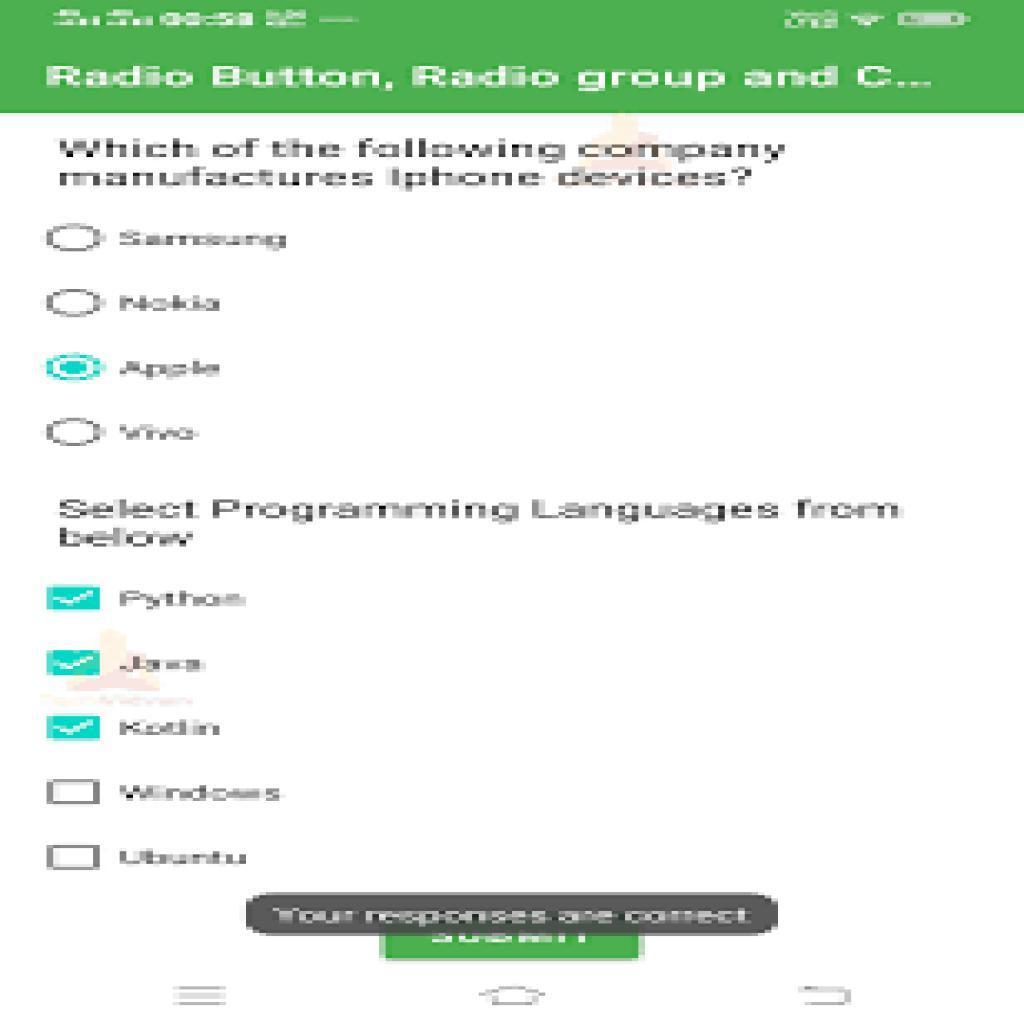checkbox: (45, 772, 107, 816), (42, 579, 108, 619), (45, 838, 103, 876), (44, 645, 102, 681), (44, 712, 105, 744)
radio: (43, 410, 108, 457), (44, 218, 105, 262), (44, 349, 107, 391), (42, 287, 110, 325)
